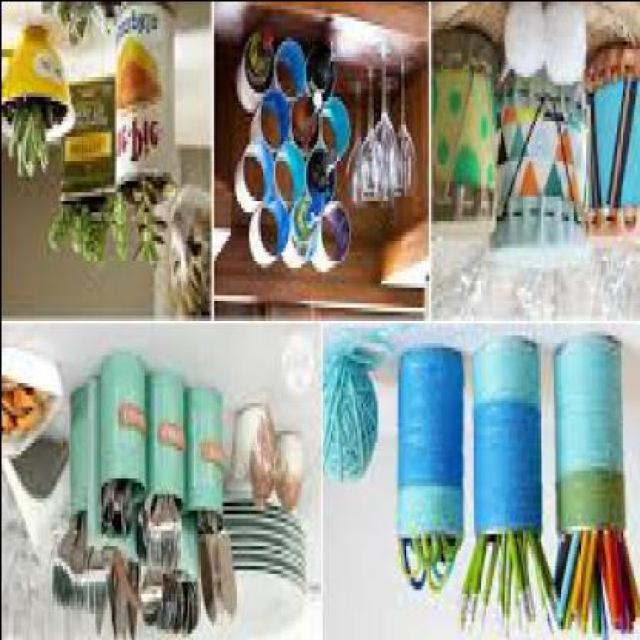GLASS: (388, 39, 412, 199), (368, 48, 392, 190), (355, 52, 374, 199), (341, 84, 362, 207), (242, 28, 272, 92), (290, 92, 318, 152), (305, 36, 333, 96), (374, 71, 386, 207), (305, 147, 333, 202), (288, 199, 315, 255)
METAL: (491, 48, 583, 258), (550, 326, 622, 545), (393, 346, 462, 548), (430, 31, 495, 242), (473, 338, 538, 548), (110, 4, 170, 202), (582, 48, 638, 246), (49, 513, 106, 636), (57, 83, 112, 203), (192, 517, 233, 625), (137, 572, 198, 638), (133, 497, 176, 572), (108, 556, 135, 638), (97, 477, 131, 537)
